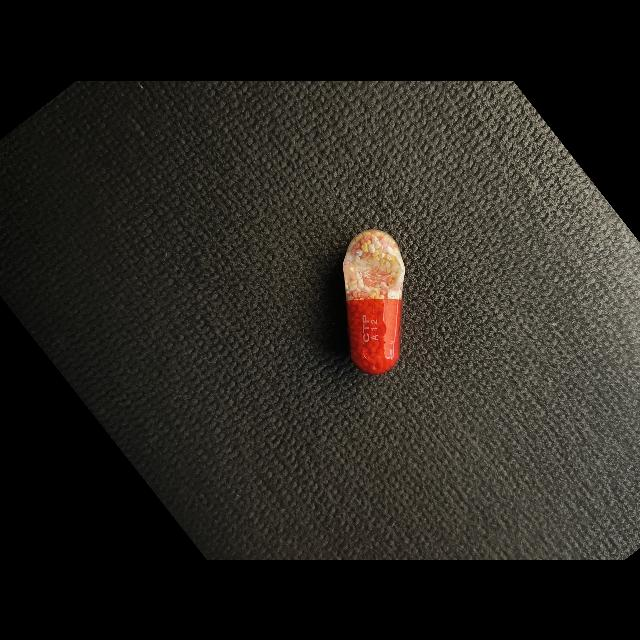Defective Capsule: (343, 229, 405, 374)
